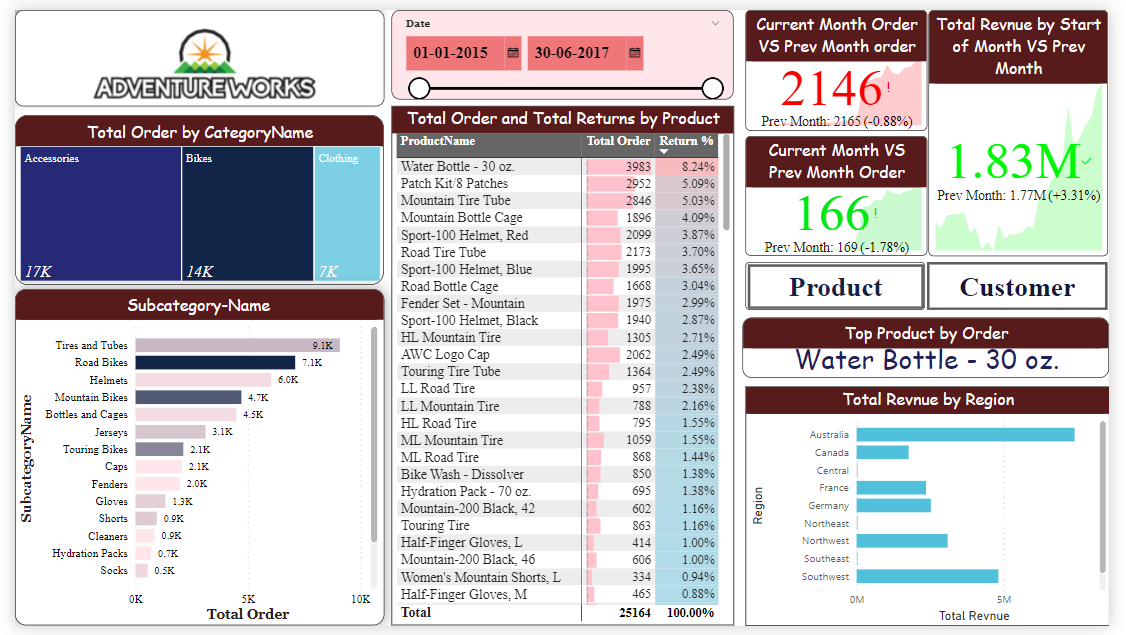

Layout of this report page (visuals, bound fields, positions):
{"tool":"powerbi","page":{"name":"Summary","canvas":[1280,720],"ordinal":0},"visuals":[{"type":"treemap","fields":{"Group":["Product_Categories_Dim.CategoryName","Product_Subcategories_Dim.SubcategoryName"],"Values":["Sales_Fact.Total Order"]},"box":[0,123.6,431.5,198.9],"z":0},{"type":"barChart","title":"Subcategory-Name","fields":{"Category":["Product_Subcategories_Dim.SubcategoryName"],"Y":["Sales_Fact.Total Order"]},"box":[0,326.8,432,393.2],"z":1000},{"type":"pivotTable","title":"Total Order and Total Returns by Product","fields":{"Rows":["Product_Categories_Dim.CategoryName","Product_Subcategories_Dim.SubcategoryName","Products_Dim.ProductName"],"Values":["Sales_Fact.Total Order","Returns_Fact.Total Return"]},"box":[440.4,112.2,400.8,607],"z":2000},{"type":"kpi","title":"Current Month Order VS Prev Month order","fields":{"Indicator":["Sales_Fact.Total Order"],"TrendLine":["Calendar_Dim.Start of Month"],"Goal":["Calendar_Dim.Prev Month Order"]},"box":[854,0,212.6,141.4],"z":3000},{"type":"slicer","fields":{"Values":["Calendar_Dim.Date"]},"box":[441,0,400,104.9],"z":4000},{"type":"kpi","title":"Current Month VS Prev Month Order","fields":{"Indicator":["Returns_Fact.Total Return"],"TrendLine":["Calendar_Dim.Start of Month"],"Goal":["Calendar_Dim.Prev Month Return"]},"box":[854,147.1,212.6,140.2],"z":5000},{"type":"card","title":"Top Customer by Order","fields":{"Values":["Min(Customers_Dim.Full Name)"]},"box":[852.8,359.6,427.2,72.6],"z":7000},{"type":"kpi","title":"Total Revnue by Start of Month VS Prev Month","fields":{"TrendLine":["Calendar_Dim.Start of Month"],"Goal":["Calendar_Dim.Prev Month Revnue"],"Indicator":["Sales_Fact.Total Revnue"]},"box":[1068.1,0,209.8,287.7],"z":8000},{"type":"image","box":[0,0,432.3,112.8],"z":9000},{"type":"barChart","fields":{"Category":["Territories_Dim.Continent","Territories_Dim.Country","Territories_Dim.Region"],"Y":["Measures_Table.Total Revnue"]},"box":[853.5,440.3,426,279.7],"z":10000},{"type":"actionButton","title":"Product","box":[853.8,295,210,56.2],"z":11000},{"type":"actionButton","title":"Customer","box":[1066.2,295,211.2,56.2],"z":12000}]}

Visuals, with their boxes in screenshot pixels (x1, y1, x2, y2), scaled from the page's 1280x720 canvas onto the 1126x635 screenshot:
treemap - Product_Categories_Dim.CategoryName x Product_Subcategories_Dim.SubcategoryName: crop(0, 109, 380, 284)
"Subcategory-Name" barChart: crop(0, 288, 380, 634)
"Total Order and Total Returns by Product" pivotTable: crop(387, 99, 740, 634)
"Current Month Order VS Prev Month order" kpi: crop(751, 0, 938, 125)
slicer - Calendar_Dim.Date: crop(388, 0, 740, 93)
"Current Month VS Prev Month Order" kpi: crop(751, 130, 938, 253)
"Top Customer by Order" card: crop(750, 317, 1125, 381)
"Total Revnue by Start of Month VS Prev Month" kpi: crop(940, 0, 1124, 254)
image: crop(0, 0, 380, 99)
barChart - Territories_Dim.Continent x Territories_Dim.Country: crop(751, 388, 1125, 634)
"Product" actionButton: crop(751, 260, 936, 310)
"Customer" actionButton: crop(938, 260, 1124, 310)
